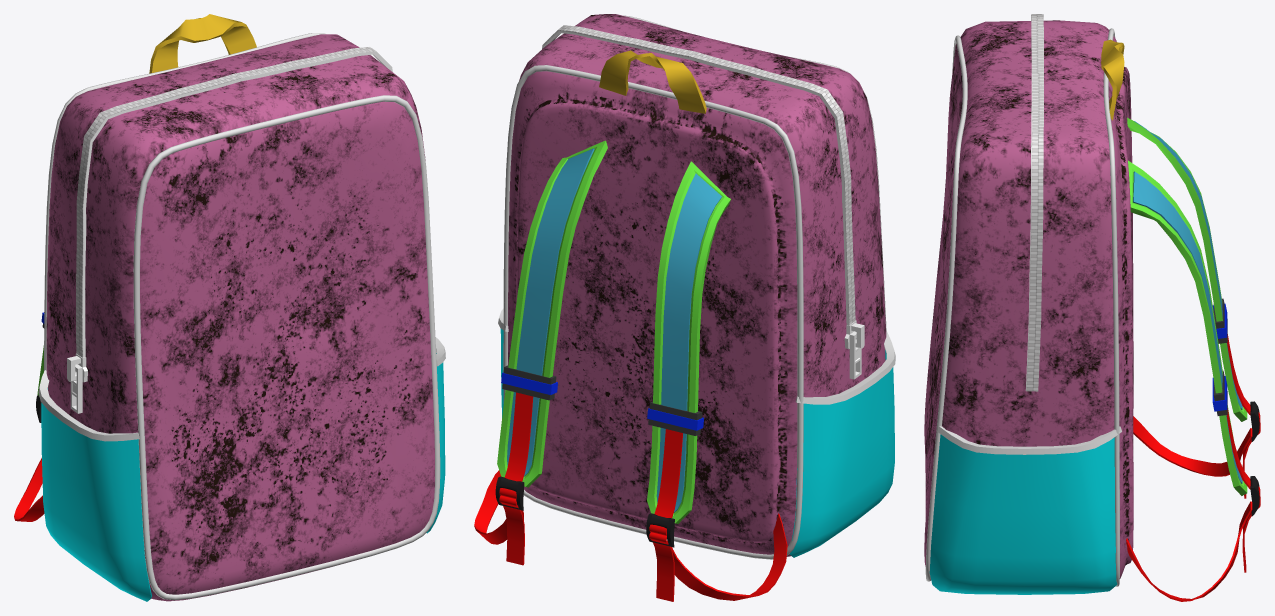
Rendered from Ranac 4.FBX.
3 renders of one model, left to right at view 1: azimuth 30°, elevation 25°; view 2: azimuth 150°, elevation 25°; view 3: azimuth 270°, elevation 25°, orthographic. The views are drawn at different scales.
Parts seen in each view (by area): view 1: Box044, Object040, Shape044, Shape043; view 2: Box044, Object040, Shape044, Shape043; view 3: Box044, Object040, Shape044, Shape043.
Boxes of the visible parts, x1,y1,x2,y2 form: Box044: (46,34,434,601); Object040: (14,14,445,601); Shape044: (38,33,445,600); Shape043: (67,47,392,413); Box044: (508,14,886,556); Object040: (474,50,894,601); Shape044: (498,15,895,559); Shape043: (542,25,864,379); Box044: (924,20,1133,578); Object040: (929,39,1260,601); Shape044: (925,28,1121,586); Shape043: (1025,14,1043,391).
Bounding box in the file's own units: 105 × 137 × 84.93.
